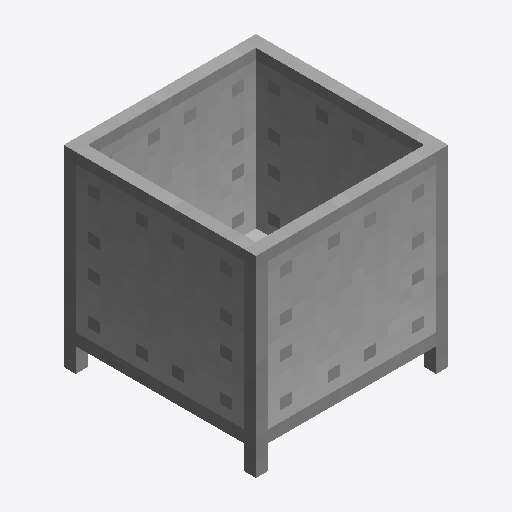
Isometric view (azimuth 45°, elevation 35.3°) of a Minecraft model made of 9 cuboids, textured from the same repository.
Parts seen in each view (by area): tankSide1, tankSide2, tankSide0, tankSide3, tankBase, leg3, leg0, leg2.
Part boxes in pixels (bbox=[...]): tankSide1: bbox=[244, 138, 447, 435]; tankSide2: bbox=[64, 138, 267, 435]; tankSide0: bbox=[64, 34, 266, 331]; tankSide3: bbox=[246, 36, 447, 331]; tankBase: bbox=[64, 229, 447, 449]; leg3: bbox=[244, 444, 267, 477]; leg0: bbox=[64, 340, 87, 373]; leg2: bbox=[424, 340, 447, 373].
Bounding box in the file's own units: 16 × 16 × 16.